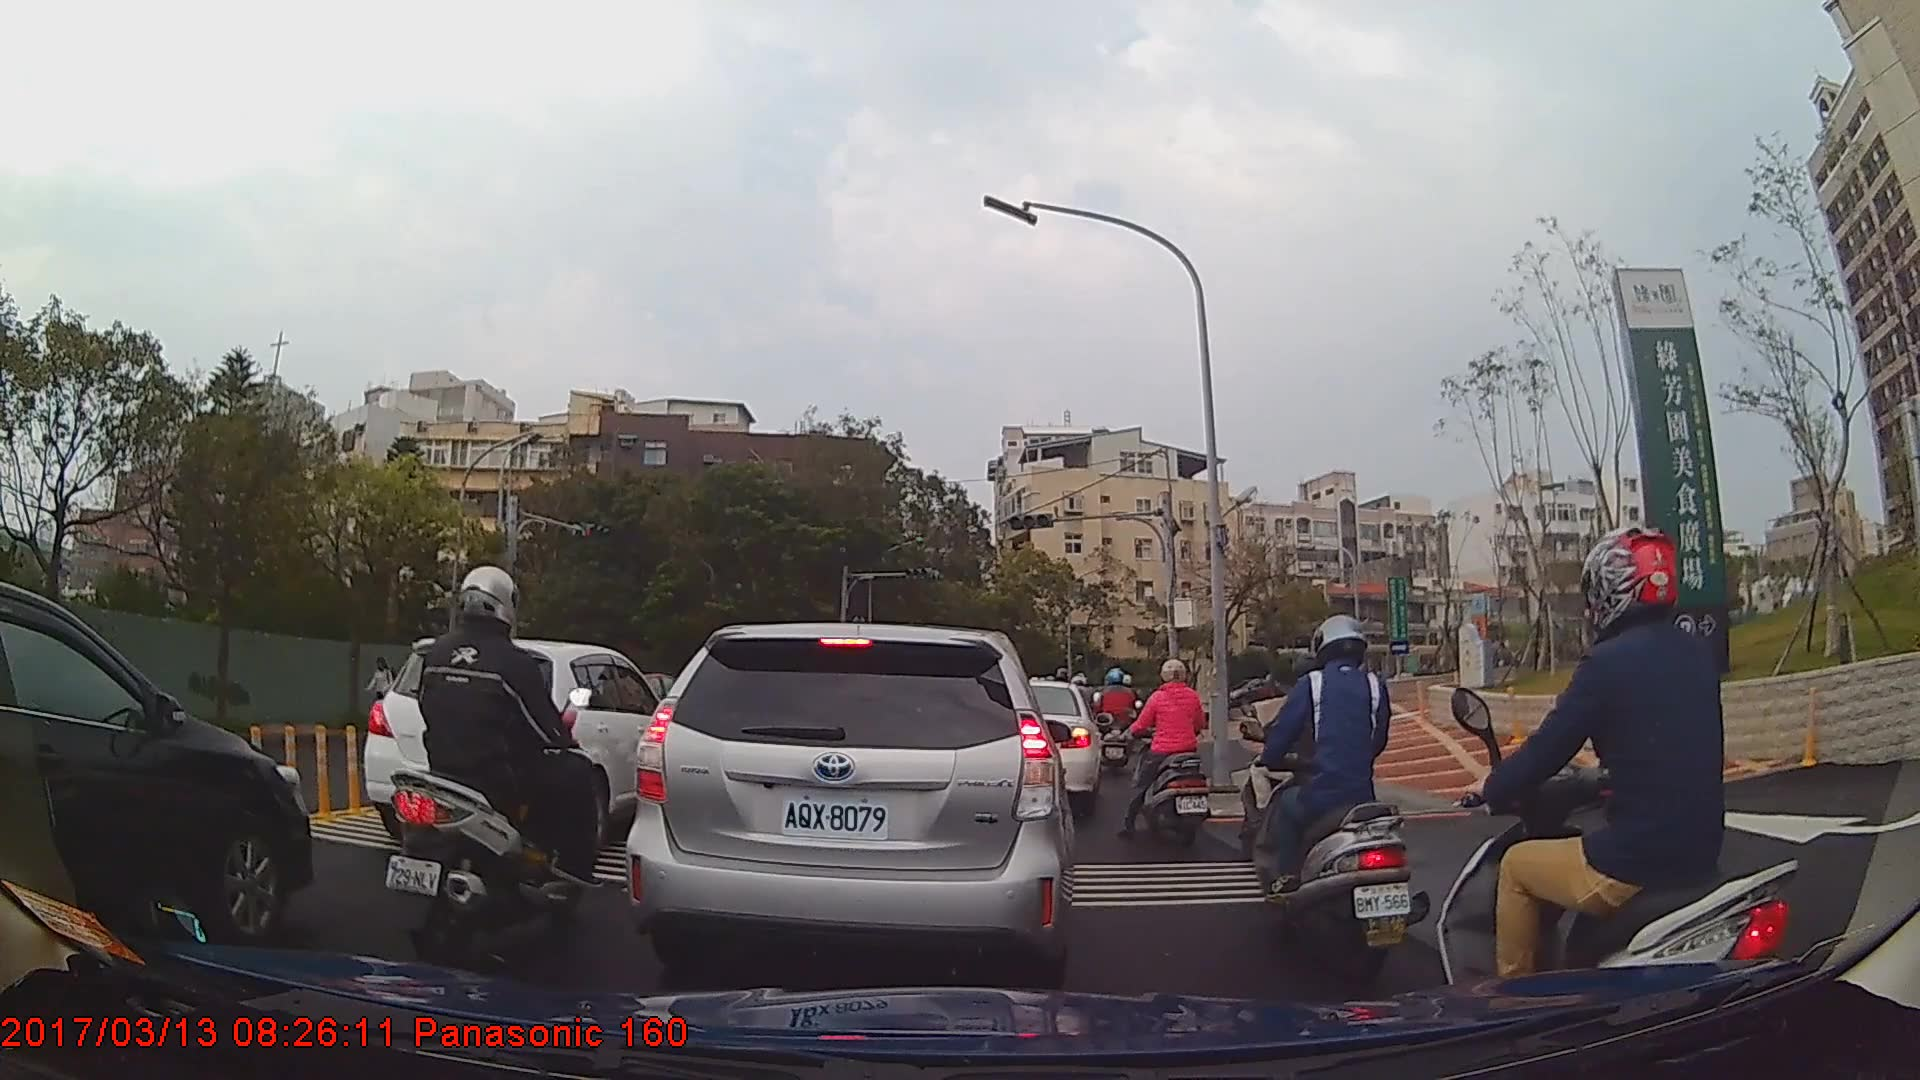pedestrian: (366, 658, 398, 735)
rider: (1437, 525, 1806, 1073), (378, 563, 609, 973), (1246, 614, 1422, 1000), (1131, 661, 1216, 855), (1092, 666, 1140, 773)
vehicle: (623, 623, 1077, 1000), (0, 577, 312, 946), (362, 635, 669, 857), (996, 678, 1103, 811), (1224, 676, 1283, 705)
